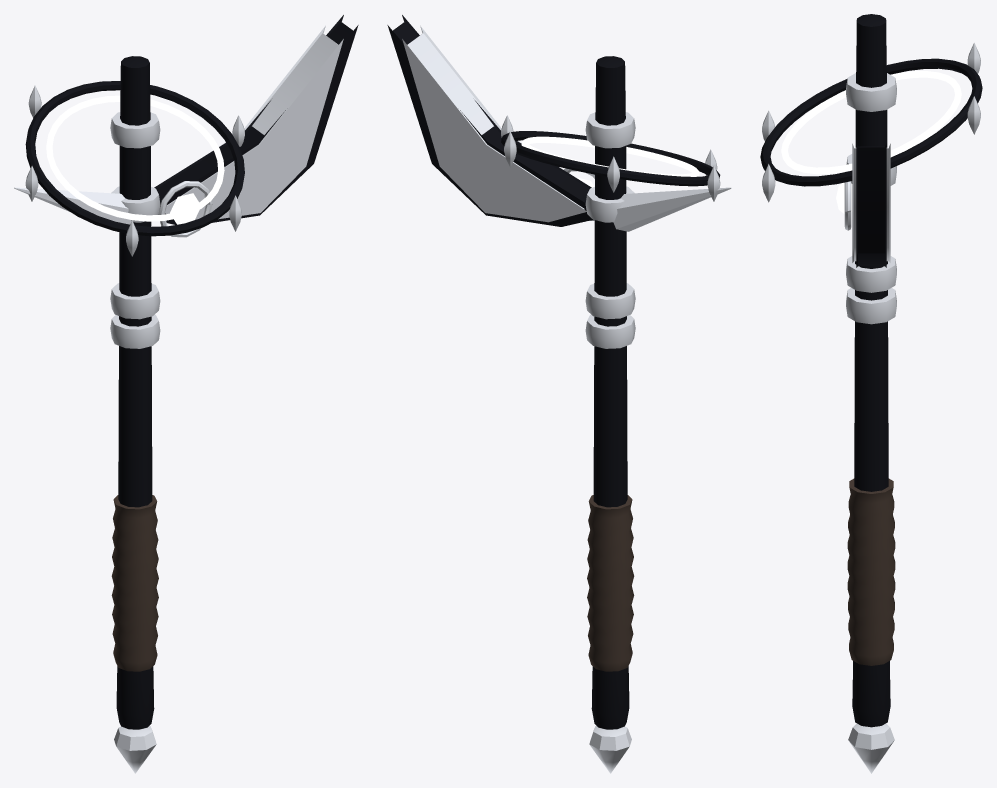
File: esc_w_knight_axe_0.glb
The picture shows the model from 3 angles, left to right: view 1: azimuth 30°, elevation 25°; view 2: azimuth 150°, elevation 25°; view 3: azimuth 270°, elevation 25°; orthographic projection. The views are drawn at different scales.
Parts seen in each view (by area): view 1: esc_w_knight_axe_0; view 2: esc_w_knight_axe_0; view 3: esc_w_knight_axe_0.
Boxes of the visible parts, box(x1,y1,x2,y2) form: esc_w_knight_axe_0: box(14, 15, 358, 773); esc_w_knight_axe_0: box(387, 15, 731, 773); esc_w_knight_axe_0: box(760, 14, 982, 773).
Size of the model in its own units: 0.4749 by 0.9636 by 0.2563.
